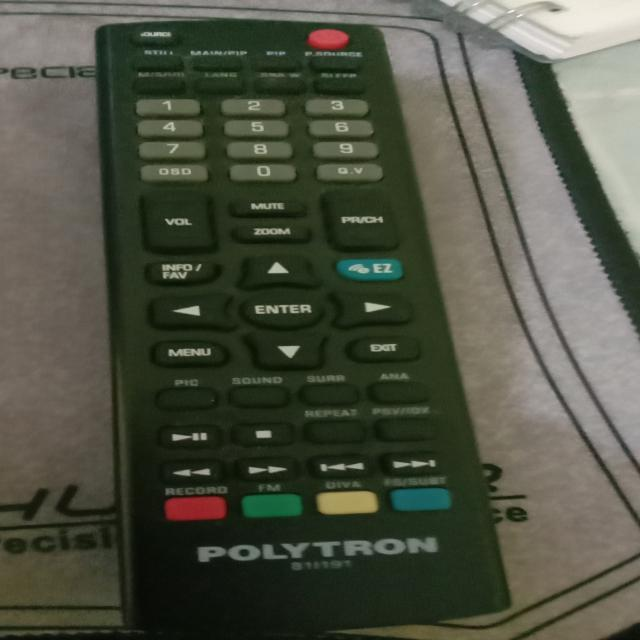remote: (85, 18, 531, 637)
